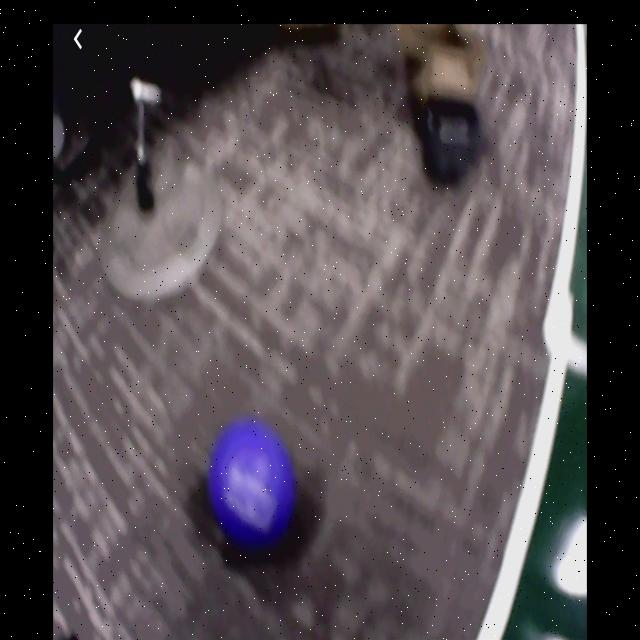ball: (211, 422, 298, 548)
